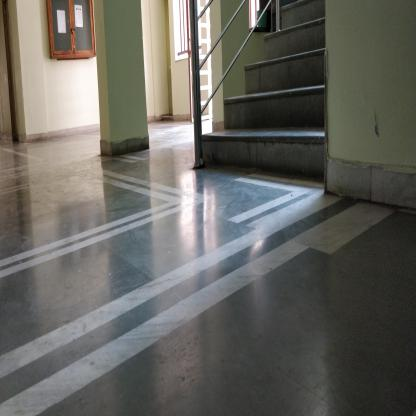stairs: (282, 14, 324, 190)
